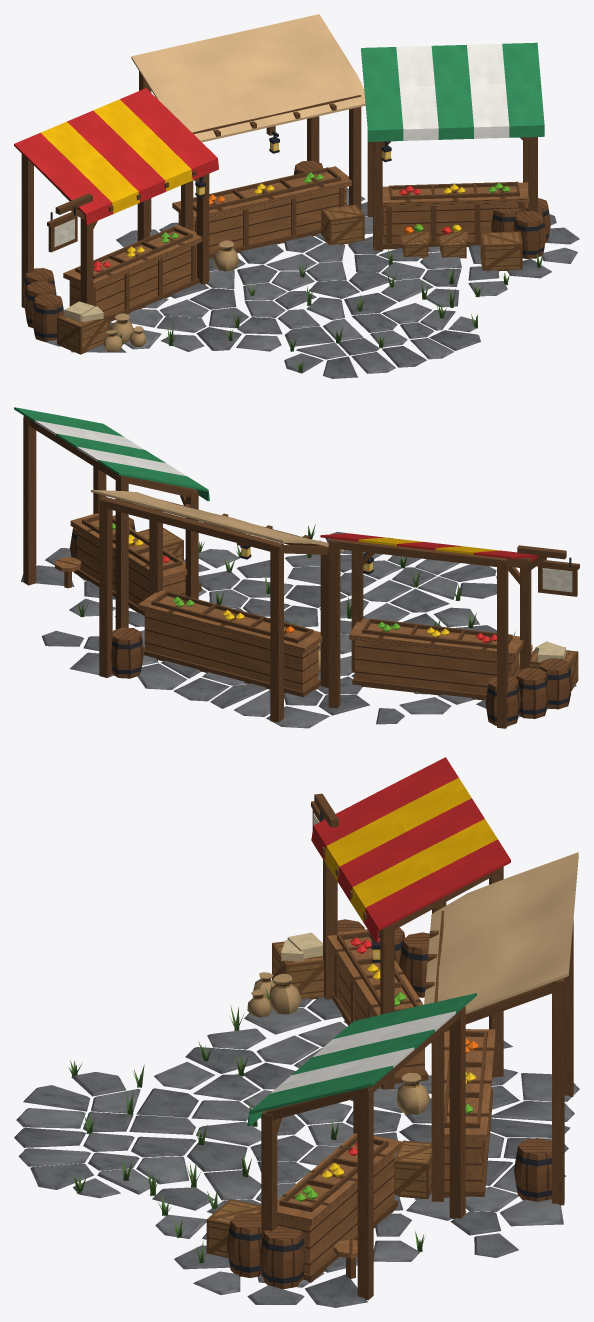
The model's file is MerchantBazaar.fbx.
3 views of the same model, one above another, from view 1: azimuth 30°, elevation 25°; view 2: azimuth 150°, elevation 25°; view 3: azimuth 270°, elevation 25° (orthographic). The views are drawn at different scales.
Visible parts, largest first — view 1: Bazaar_FlagstonePath, Stall_Counters, Awning_Center_Tan, Awning_Right_GreenWhite, Awning_Left_RedYellow, Bazaar_Props_Clutter, Stall_TimberFrame, Bazaar_GrassTufts, Sign_HangingBoard; view 2: Stall_Counters, Stall_TimberFrame, Bazaar_FlagstonePath, Bazaar_Props_Clutter, Awning_Right_GreenWhite, Awning_Center_Tan, Awning_Left_RedYellow, Sign_HangingBoard, Bazaar_GrassTufts; view 3: Bazaar_FlagstonePath, Stall_TimberFrame, Awning_Left_RedYellow, Stall_Counters, Bazaar_Props_Clutter, Awning_Center_Tan, Awning_Right_GreenWhite, Bazaar_GrassTufts.
Part boxes in pixels (bbox=[...]): Bazaar_FlagstonePath: bbox=[45, 187, 579, 378]; Stall_Counters: bbox=[63, 166, 528, 321]; Awning_Center_Tan: bbox=[131, 14, 365, 142]; Awning_Right_GreenWhite: bbox=[361, 42, 544, 141]; Awning_Left_RedYellow: bbox=[14, 88, 218, 224]; Bazaar_Props_Clutter: bbox=[23, 160, 550, 354]; Stall_TimberFrame: bbox=[21, 71, 537, 307]; Bazaar_GrassTufts: bbox=[116, 248, 542, 372]; Sign_HangingBoard: bbox=[47, 206, 77, 252]; Stall_Counters: bbox=[55, 513, 523, 700]; Stall_TimberFrame: bbox=[23, 416, 566, 728]; Bazaar_FlagstonePath: bbox=[21, 531, 576, 728]; Bazaar_Props_Clutter: bbox=[70, 515, 578, 725]; Awning_Right_GreenWhite: bbox=[14, 407, 209, 501]; Awning_Center_Tan: bbox=[91, 490, 344, 551]; Awning_Left_RedYellow: bbox=[320, 533, 538, 566]; Sign_HangingBoard: bbox=[538, 557, 579, 596]; Bazaar_GrassTufts: bbox=[77, 524, 515, 635]; Bazaar_FlagstonePath: bbox=[14, 996, 579, 1307]; Stall_TimberFrame: bbox=[261, 793, 573, 1300]; Awning_Left_RedYellow: bbox=[311, 757, 510, 943]; Stall_Counters: bbox=[276, 929, 495, 1282]; Bazaar_Props_Clutter: bbox=[206, 919, 551, 1289]; Awning_Center_Tan: bbox=[424, 852, 578, 1013]; Awning_Right_GreenWhite: bbox=[247, 993, 476, 1126]; Bazaar_GrassTufts: bbox=[68, 983, 424, 1263].
Bounding box in the file's own units: 36.49 × 11.83 × 25.61.
Materials: 2 (2 with a texture image).
